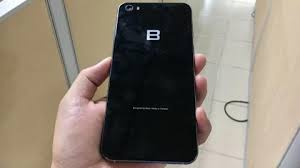bphone: (97, 1, 201, 166)
